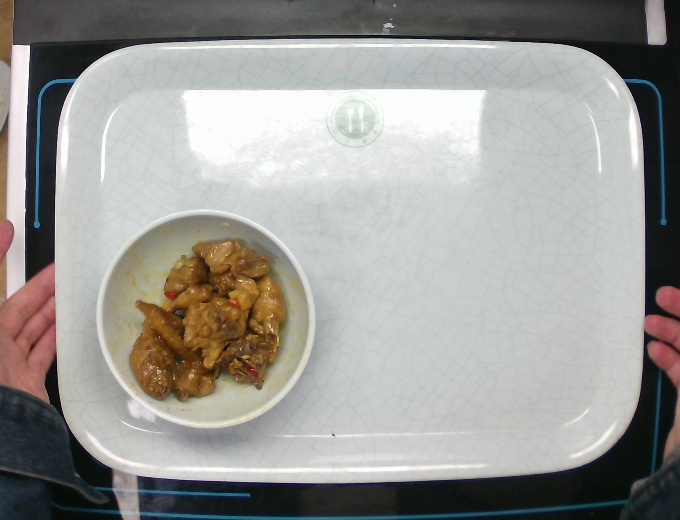JYsf-Fan_Wan: (93, 208, 320, 431)
